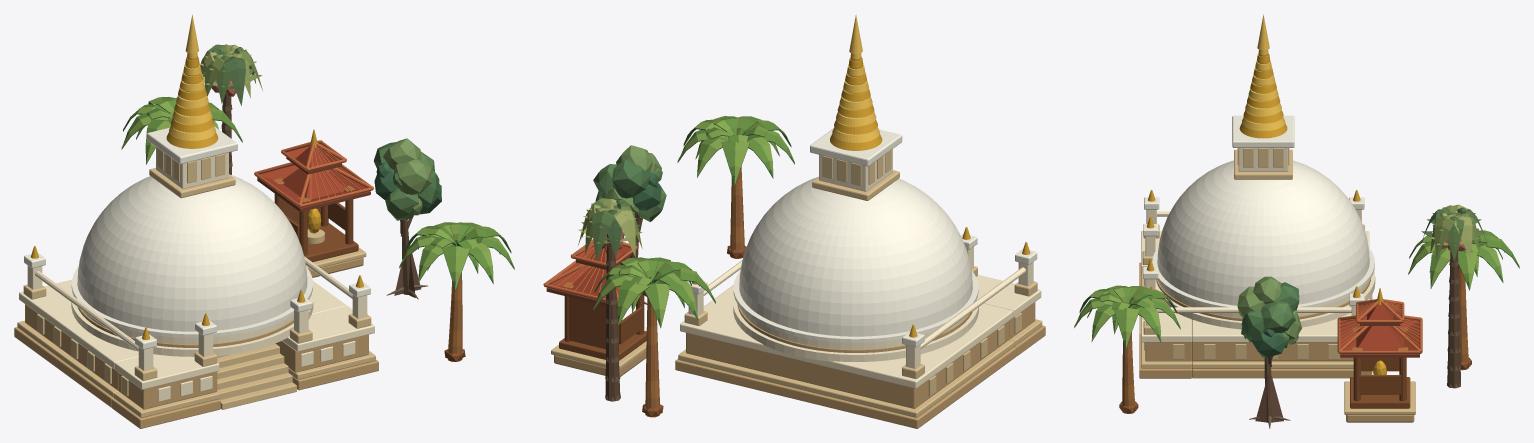
The model's file is simhala.glb.
The picture shows the model from 3 angles, left to right: view 1: azimuth 30°, elevation 25°; view 2: azimuth 150°, elevation 25°; view 3: azimuth 270°, elevation 25°; orthographic projection. The views are drawn at different scales.
Parts seen in each view (by area): view 1: simhala_board_Simhala_Porcelain, simhala_board_Simhala_Ivory, simhala_board_Simhala_StoneLight, simhala_board_Simhala_Stone, simhala_board_Simhala_LeafSun, simhala_board_Simhala_Wood, simhala_board_Simhala_LeafFold, simhala_board_Simhala_Roof, simhala_board_Simhala_Gold, simhala_board_Simhala_RoofLight, simhala_board_BiomeV3_Foliage_tropic2, simhala_board_Simhala_GoldLight (+12 smaller); view 2: simhala_board_Simhala_Porcelain, simhala_board_Simhala_Ivory, simhala_board_Simhala_Stone, simhala_board_Simhala_StoneLight, simhala_board_Simhala_LeafSun, simhala_board_Simhala_LeafFold, simhala_board_Simhala_Wood, simhala_board_Simhala_Gold, simhala_board_Simhala_GoldLight, simhala_board_BiomeV3_Branch, simhala_board_Simhala_WoodWarm, simhala_board_Simhala_RoofLight (+13 smaller); view 3: simhala_board_Simhala_Porcelain, simhala_board_Simhala_Ivory, simhala_board_Simhala_Stone, simhala_board_Simhala_StoneLight, simhala_board_Simhala_Wood, simhala_board_Simhala_LeafSun, simhala_board_Simhala_LeafFold, simhala_board_Simhala_RoofLight, simhala_board_Simhala_Roof, simhala_board_Simhala_Gold, simhala_board_BiomeV3_Branch, simhala_board_Simhala_GoldLight (+12 smaller).
Part boxes in pixels (box(x1,y1,x2,y2)): simhala_board_Simhala_Porcelain: box(24, 126, 370, 349); simhala_board_Simhala_Ivory: box(19, 147, 374, 401); simhala_board_Simhala_StoneLight: box(17, 148, 375, 417); simhala_board_Simhala_Stone: box(14, 257, 378, 428); simhala_board_Simhala_LeafSun: box(121, 97, 513, 290); simhala_board_Simhala_Wood: box(274, 194, 465, 361); simhala_board_Simhala_LeafFold: box(125, 97, 514, 282); simhala_board_Simhala_Roof: box(259, 144, 367, 203); simhala_board_Simhala_Gold: box(31, 56, 363, 339); simhala_board_Simhala_RoofLight: box(254, 140, 373, 207); simhala_board_BiomeV3_Foliage_tropic2: box(383, 138, 431, 215); simhala_board_Simhala_GoldLight: box(169, 14, 215, 140); simhala_board_Simhala_Porcelain: box(688, 128, 1037, 347); simhala_board_Simhala_Ivory: box(680, 149, 1041, 388); simhala_board_Simhala_Stone: box(554, 302, 1045, 428); simhala_board_Simhala_StoneLight: box(551, 150, 1042, 417); simhala_board_Simhala_LeafSun: box(593, 116, 793, 326); simhala_board_Simhala_LeafFold: box(596, 116, 794, 321); simhala_board_Simhala_Wood: box(559, 245, 746, 416); simhala_board_Simhala_Gold: box(692, 57, 1030, 337); simhala_board_Simhala_GoldLight: box(832, 14, 879, 142); simhala_board_BiomeV3_Branch: box(605, 214, 642, 401); simhala_board_Simhala_WoodWarm: box(645, 166, 744, 417); simhala_board_Simhala_RoofLight: box(543, 239, 637, 304); simhala_board_Simhala_Porcelain: box(1143, 115, 1374, 307); simhala_board_Simhala_Ivory: box(1141, 148, 1375, 350); simhala_board_Simhala_Stone: box(1139, 262, 1414, 422); simhala_board_Simhala_StoneLight: box(1139, 148, 1415, 414); simhala_board_Simhala_Wood: box(1119, 357, 1471, 413); simhala_board_Simhala_LeafSun: box(1074, 230, 1518, 348); simhala_board_Simhala_LeafFold: box(1078, 228, 1519, 340); simhala_board_Simhala_RoofLight: box(1337, 299, 1422, 353); simhala_board_Simhala_Roof: box(1340, 304, 1419, 350); simhala_board_Simhala_Gold: box(1146, 53, 1386, 374); simhala_board_BiomeV3_Branch: box(1264, 251, 1460, 422); simhala_board_Simhala_GoldLight: box(1242, 14, 1285, 131).
Bounding box in the file's own units: 3.81 × 3.33 × 4.3.
